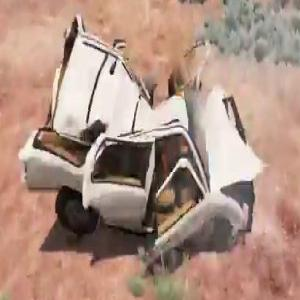critical: (18, 8, 261, 258)
